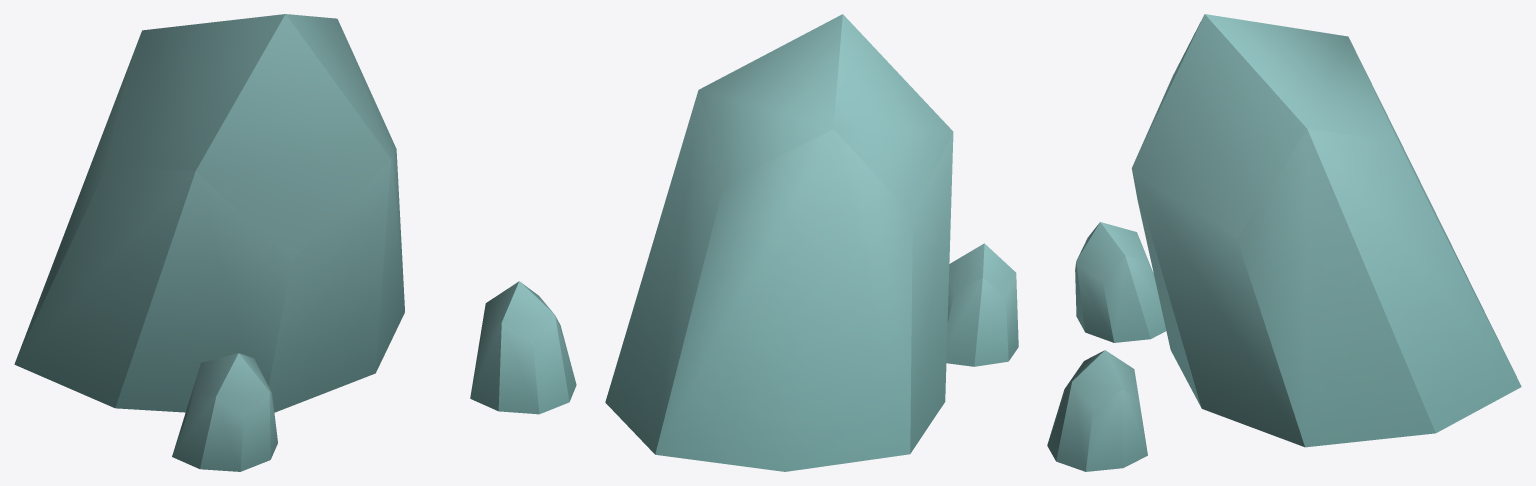
The model's file is Stones_Big.fbx.
The picture shows the model from 3 angles, left to right: view 1: azimuth 30°, elevation 25°; view 2: azimuth 150°, elevation 25°; view 3: azimuth 270°, elevation 25°; orthographic projection. The views are drawn at different scales.
Parts seen in each view (by area): view 1: Stones_Big; view 2: Stones_Big; view 3: Stones_Big.
Part boxes in pixels (x1,y1,x2,y2): Stones_Big: [14, 14, 576, 471]; Stones_Big: [605, 14, 1018, 471]; Stones_Big: [1047, 14, 1521, 471].
Bounding box in the file's own units: 39.68 × 35.95 × 43.62.
